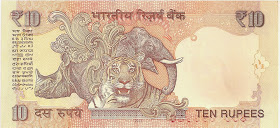ten_rupees_note: (2, 1, 278, 125)
